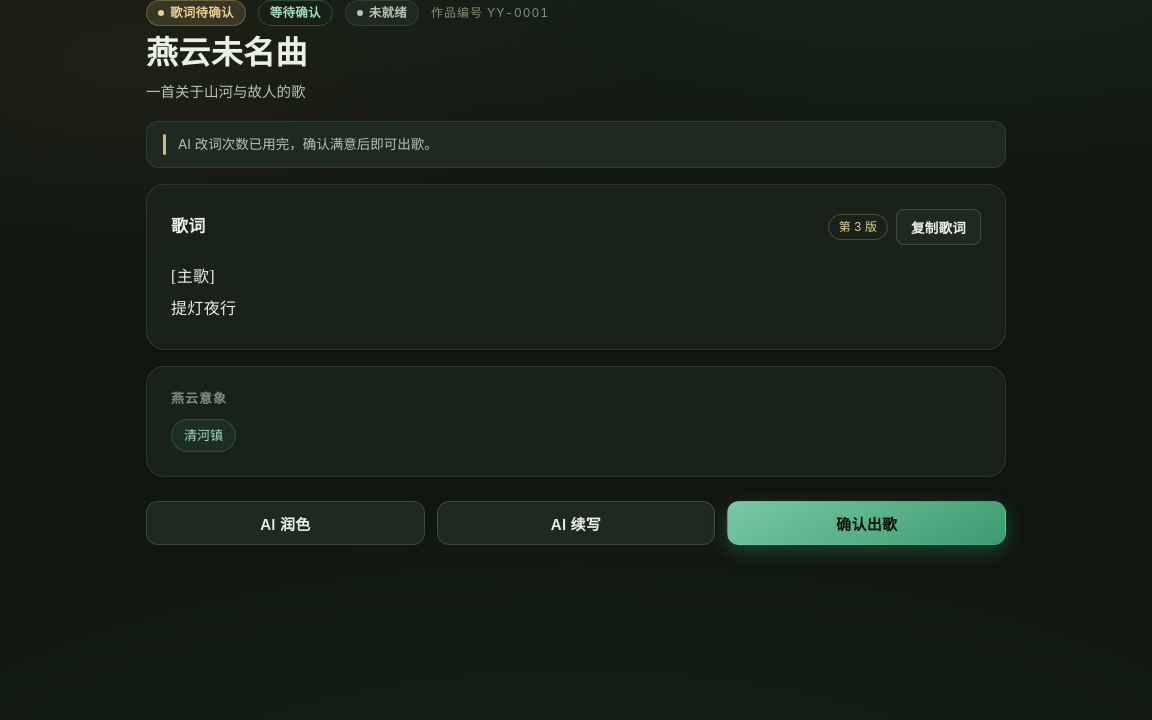
Test: ConfirmView › copies lyrics from the confirm page with clipboard fallback support
This screenshot has width=1152, height=720.
Click the button "复制歌词". click: coordinates (938, 227)
box: [896, 209, 981, 245]
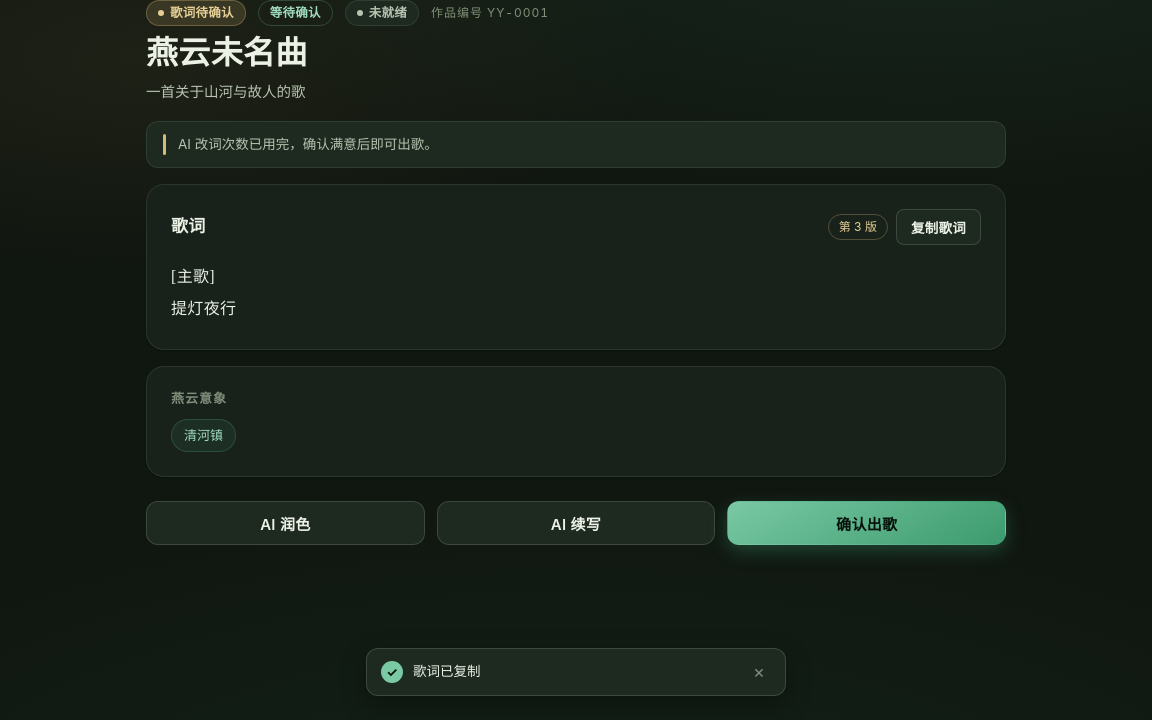
Expected: the text "歌词已复制" is shown, [413, 663, 480, 679]
